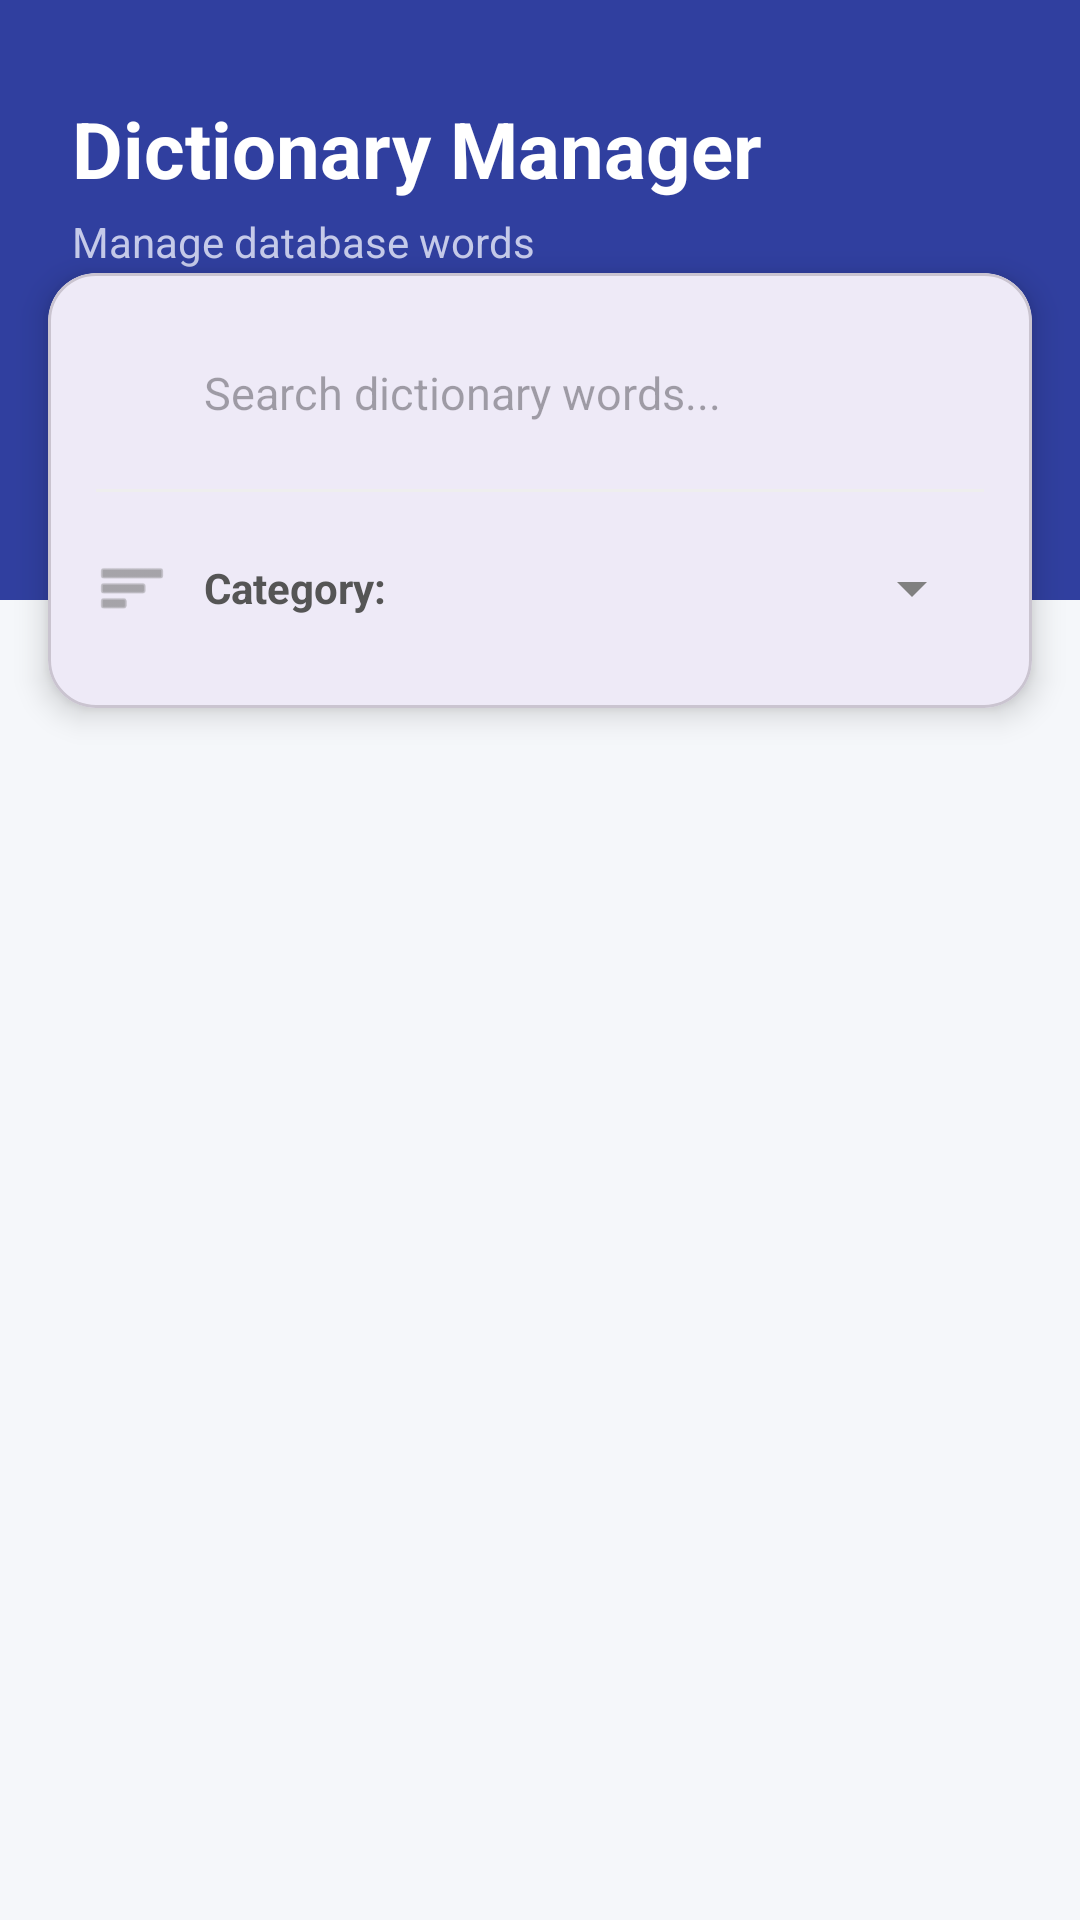

Screen size 1080*1920. Icon name, then its box in pixels as (x1, y1, x2, y2):
sort by size: (101, 568, 163, 608)
